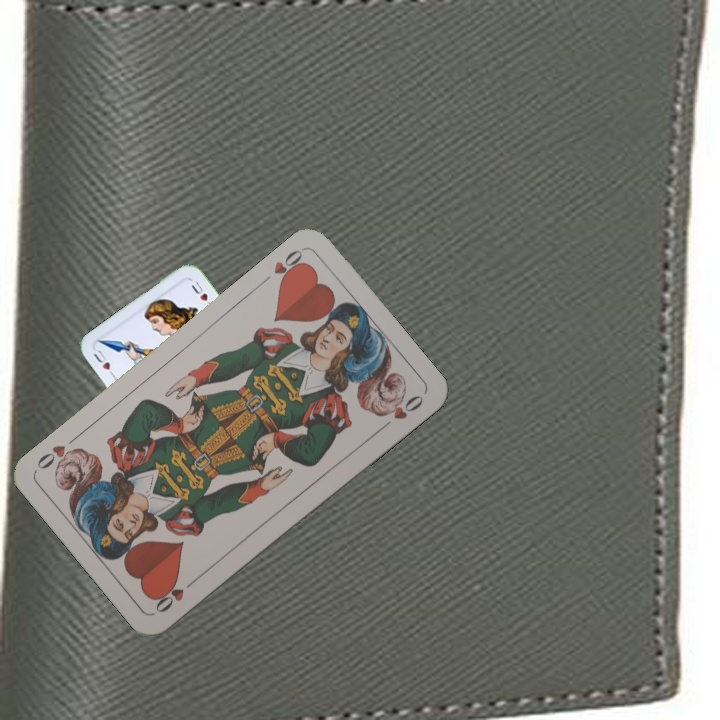HO: (151, 573, 201, 616), (269, 245, 309, 288)
HU: (89, 345, 119, 381)
